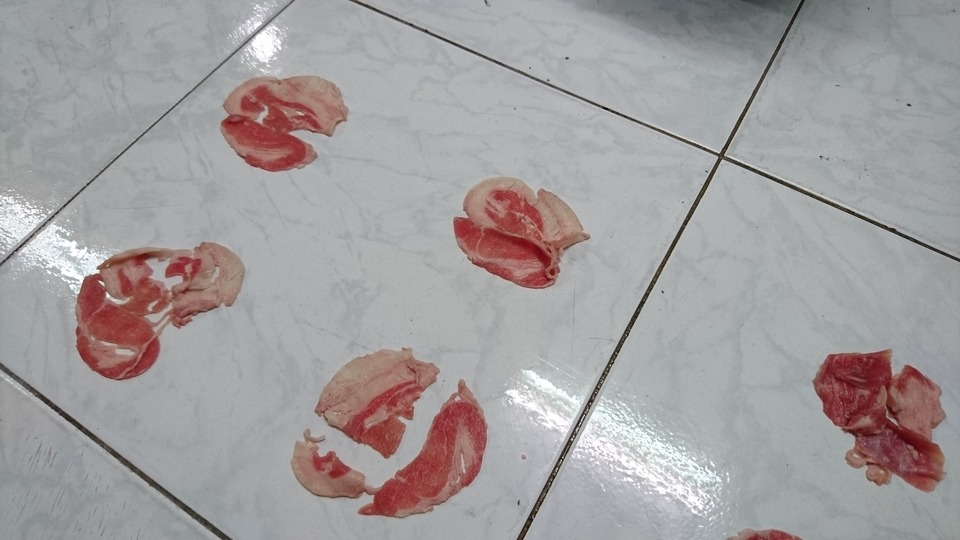restructured meat: (285, 341, 491, 520), (70, 236, 244, 386), (812, 339, 960, 488), (446, 170, 592, 300), (220, 69, 357, 177)
